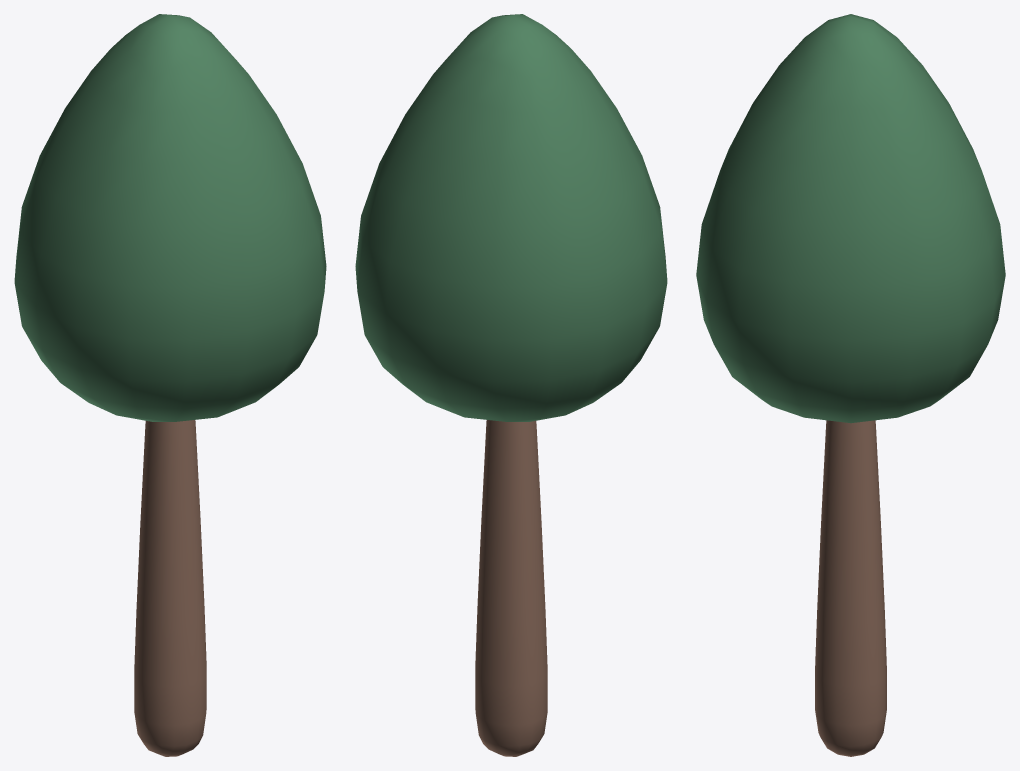
The model's file is tree3.fbx.
The picture shows the model from 3 angles, left to right: view 1: azimuth 30°, elevation 25°; view 2: azimuth 150°, elevation 25°; view 3: azimuth 270°, elevation 25°; orthographic projection.
Visible parts, largest first — view 1: tree.003; view 2: tree.003; view 3: tree.003.
Part boxes in pixels (x1,y1,x2,y2): tree.003: (14, 14, 326, 756); tree.003: (355, 14, 667, 756); tree.003: (696, 14, 1005, 756).
Bounding box in the file's own units: 373 × 980 × 373.
